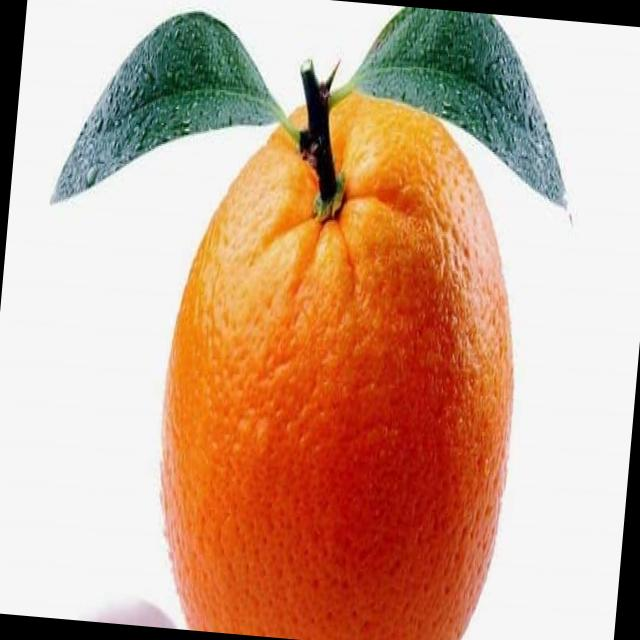orange: (131, 70, 539, 640)
